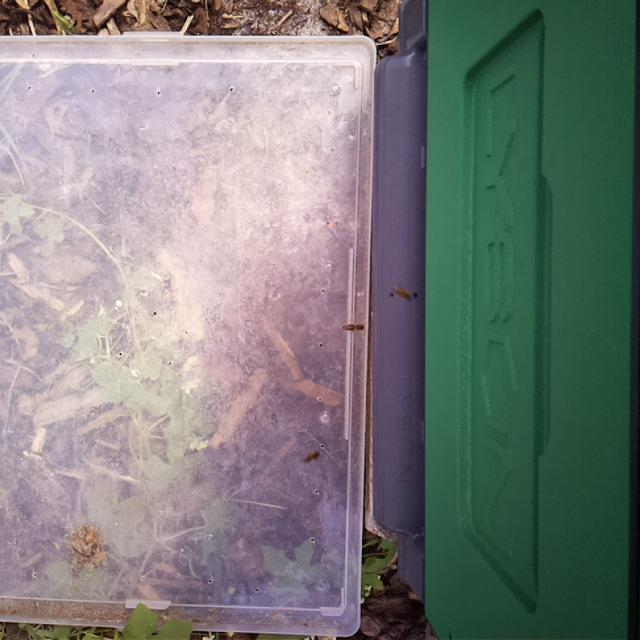worker-bee: (299, 446, 326, 474), (391, 279, 417, 306), (339, 319, 370, 336)
